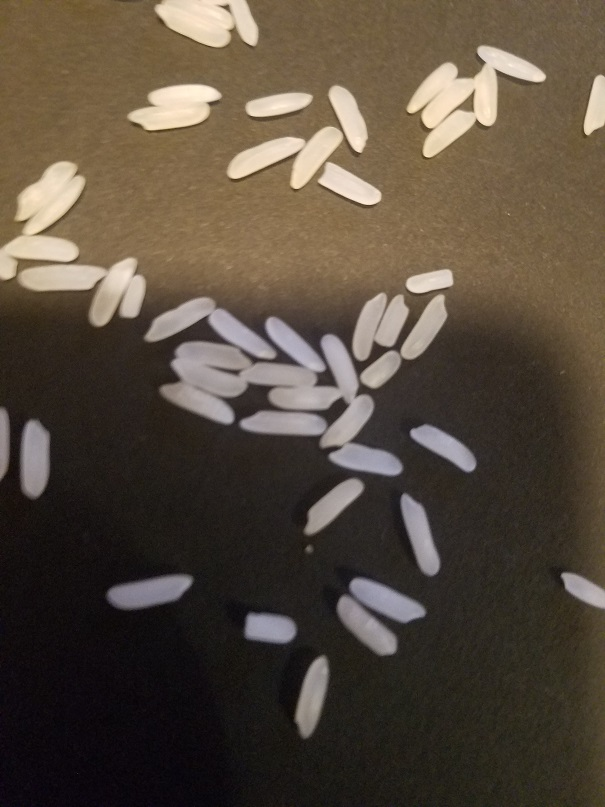egg: (393, 490, 446, 581), (404, 415, 480, 477), (333, 594, 403, 660), (347, 575, 437, 626), (296, 476, 369, 538), (83, 254, 138, 331), (225, 133, 309, 183), (22, 173, 88, 236), (207, 306, 282, 361), (397, 294, 453, 367), (283, 125, 343, 193), (469, 39, 552, 88), (103, 571, 197, 614), (263, 312, 326, 376), (13, 158, 77, 221), (142, 290, 216, 344), (152, 1, 232, 50), (169, 356, 252, 403), (157, 378, 238, 426), (325, 79, 372, 161), (290, 651, 331, 743), (316, 392, 375, 455), (314, 159, 385, 211), (324, 436, 405, 479), (405, 58, 460, 119), (315, 332, 362, 403), (14, 262, 109, 297), (18, 417, 55, 503), (344, 293, 390, 362), (419, 77, 477, 128), (418, 109, 477, 159), (237, 406, 327, 438), (125, 99, 214, 131), (243, 358, 322, 390), (1, 234, 85, 264), (175, 338, 251, 371), (553, 565, 605, 611), (243, 87, 316, 119), (371, 293, 410, 350), (163, 1, 237, 29), (144, 81, 226, 106), (240, 611, 304, 643), (360, 348, 403, 395), (472, 61, 501, 129), (268, 386, 342, 410), (579, 71, 605, 138), (405, 265, 459, 297), (116, 272, 149, 323), (231, 1, 263, 47), (1, 406, 13, 482), (1, 248, 18, 283)
